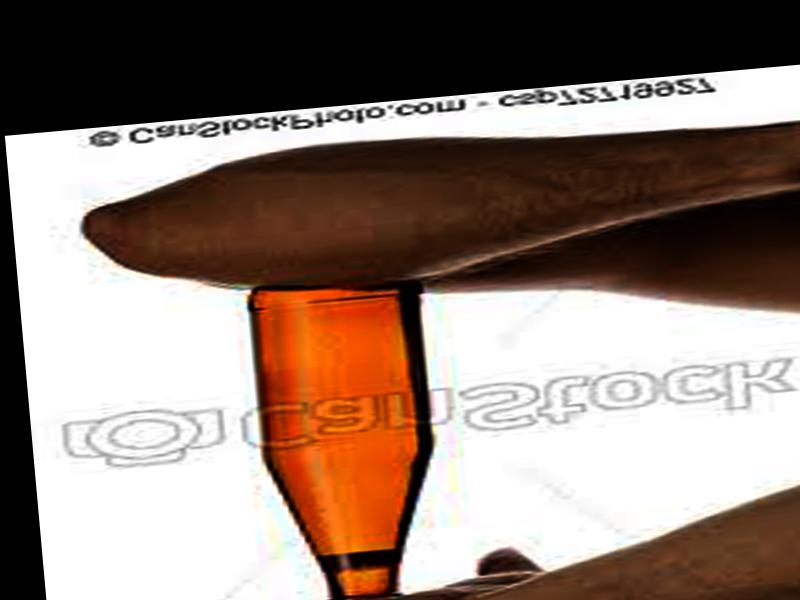Beer: (243, 277, 455, 600)
